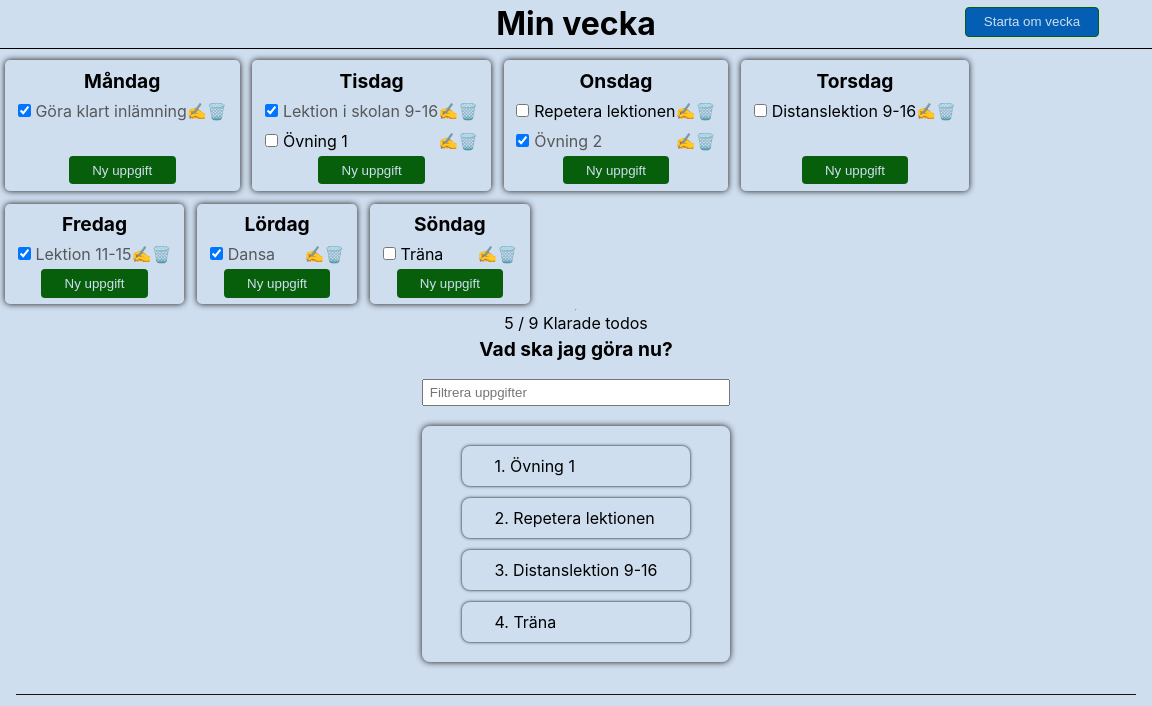
delete btn, and change todo › change a todo
Click the text with test id "change" next to "Göra klart inlämning" at (197, 111), box top-left (187, 101), bottom-right (207, 121)
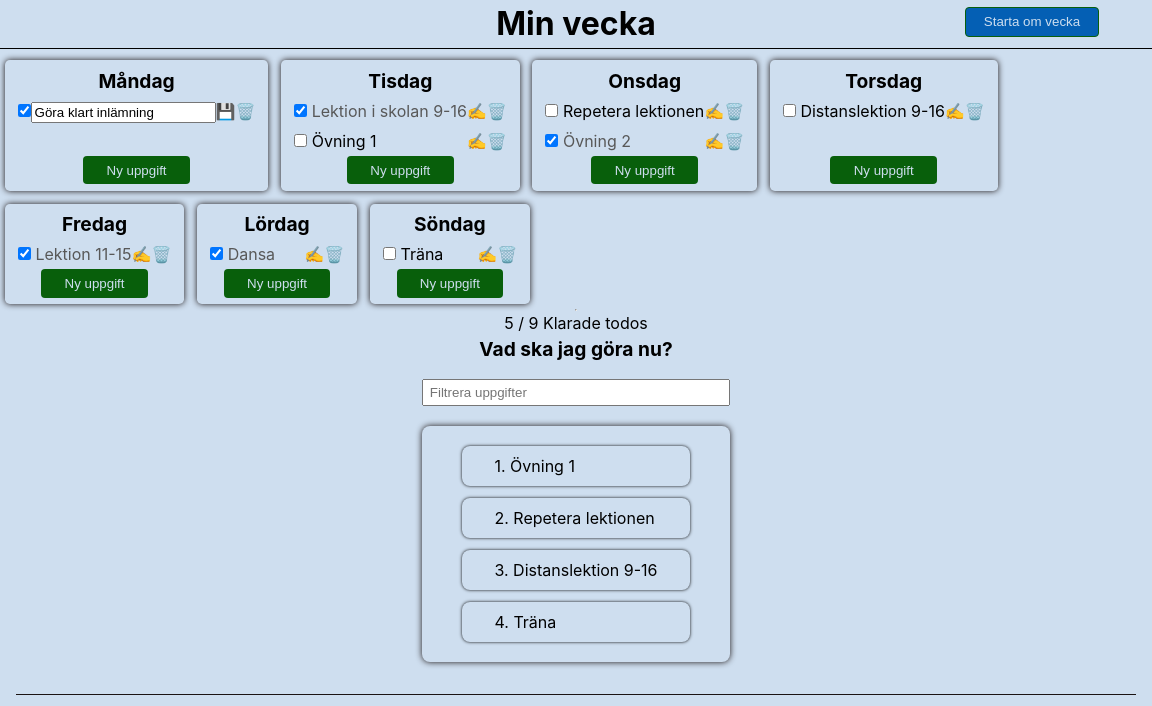
Replace the text in the field with test id "input-change" with "Övning 2" at (124, 113), box top-left (31, 102), bottom-right (216, 123)
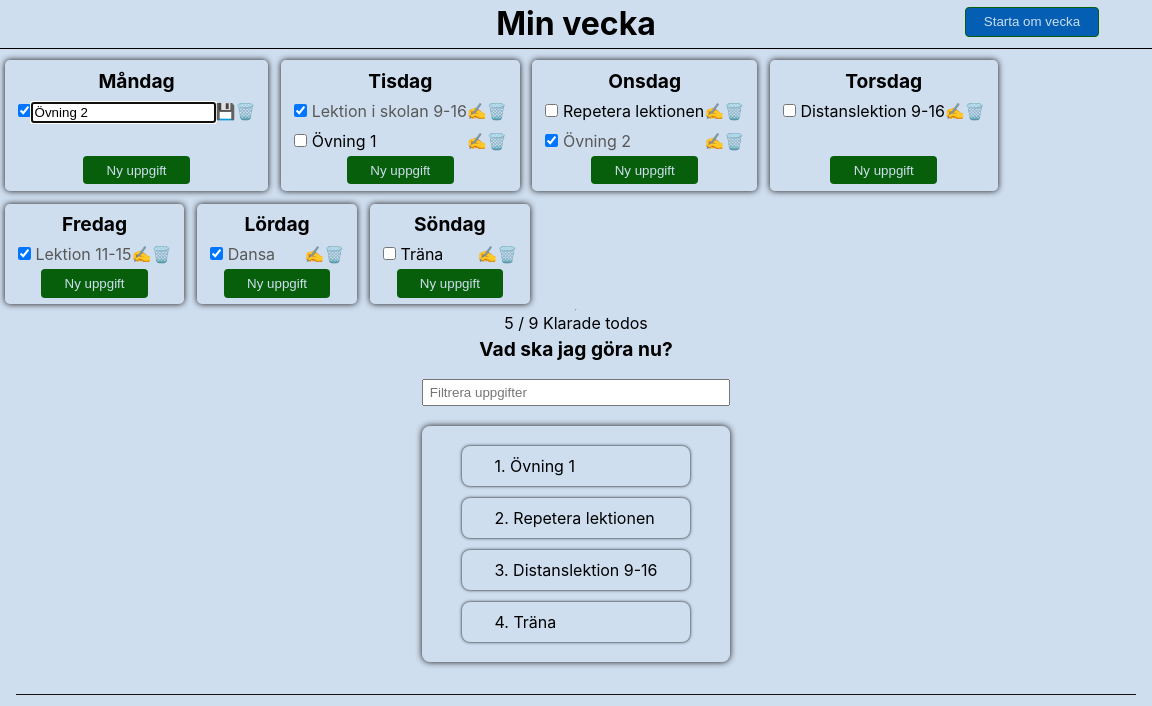
Click the text with test id "save" at (226, 111), box top-left (216, 101), bottom-right (236, 121)
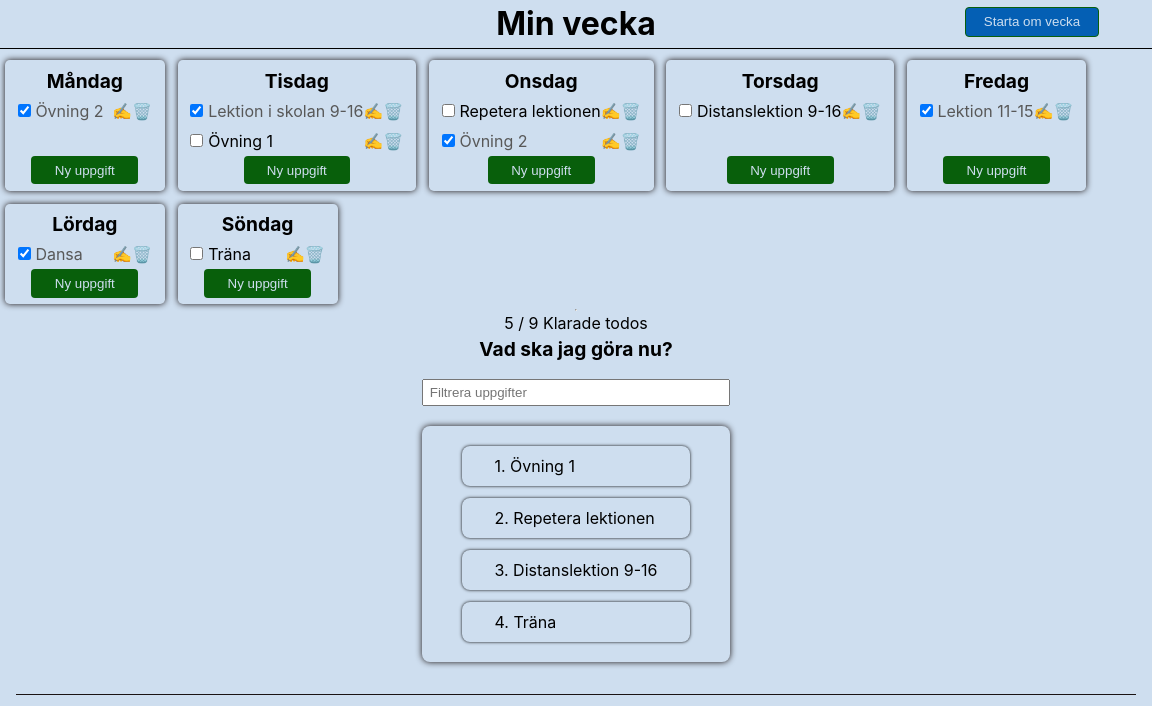
Now the text "Övning 2" below "Måndag" is shown, box top-left (31, 101), bottom-right (104, 121)
